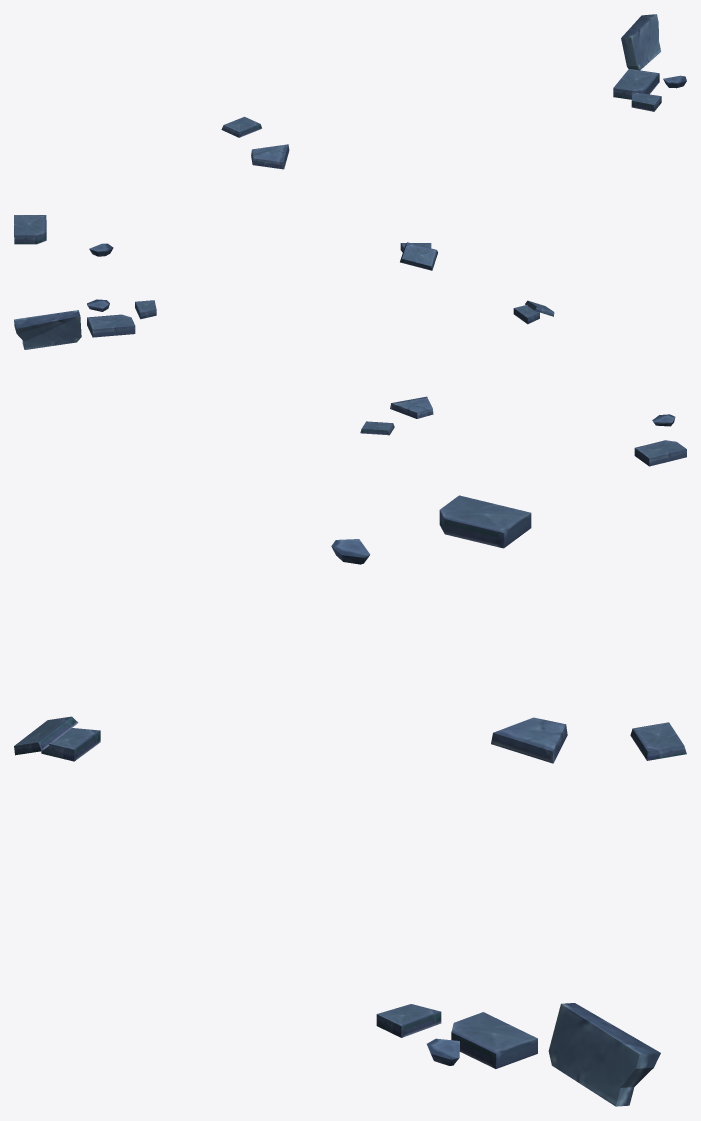
The model's file is Area09_26.fbx.
The picture shows the model from 3 angles, top to bottom: view 1: azimuth 30°, elevation 25°; view 2: azimuth 150°, elevation 25°; view 3: azimuth 270°, elevation 25°; orthographic projection. The views are drawn at different scales.
Parts seen in each view (by area): view 1: Area09_26; view 2: Area09_26; view 3: Area09_26.
Boxes of the visible parts, x1,y1,x2,y2 form: Area09_26: (14, 14, 686, 270); Area09_26: (14, 299, 686, 466); Area09_26: (14, 495, 686, 1106).
Size of the model in its own units: 3315 by 181 by 1620.
1 material, 1 textured.
